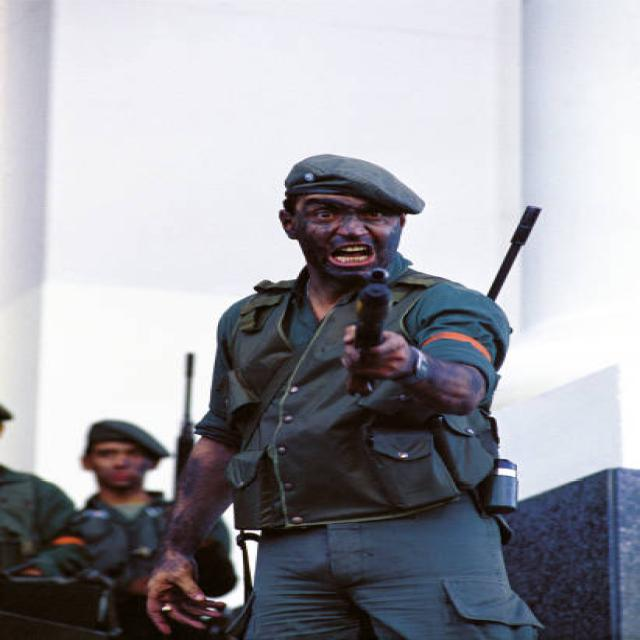soldier: (214, 158, 549, 640)
